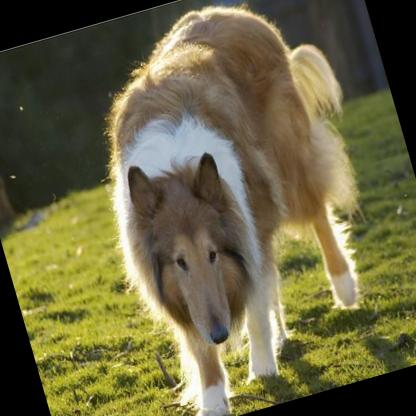collie: (53, 0, 416, 416)
